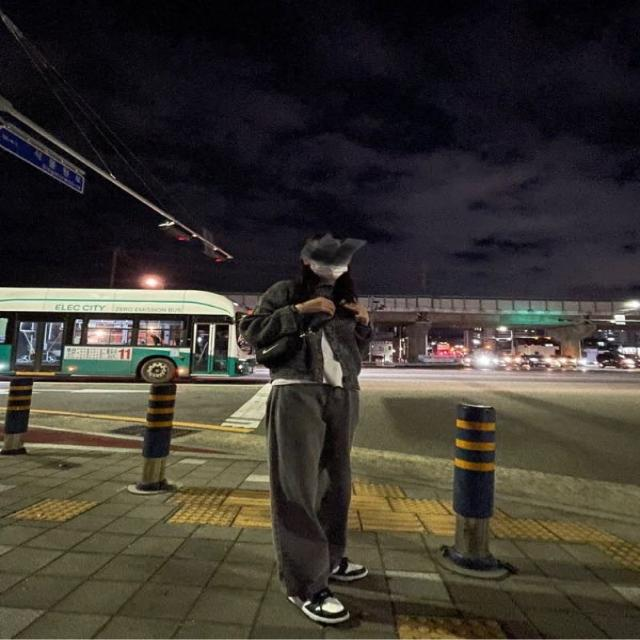denimpants: (246, 274, 370, 390)
